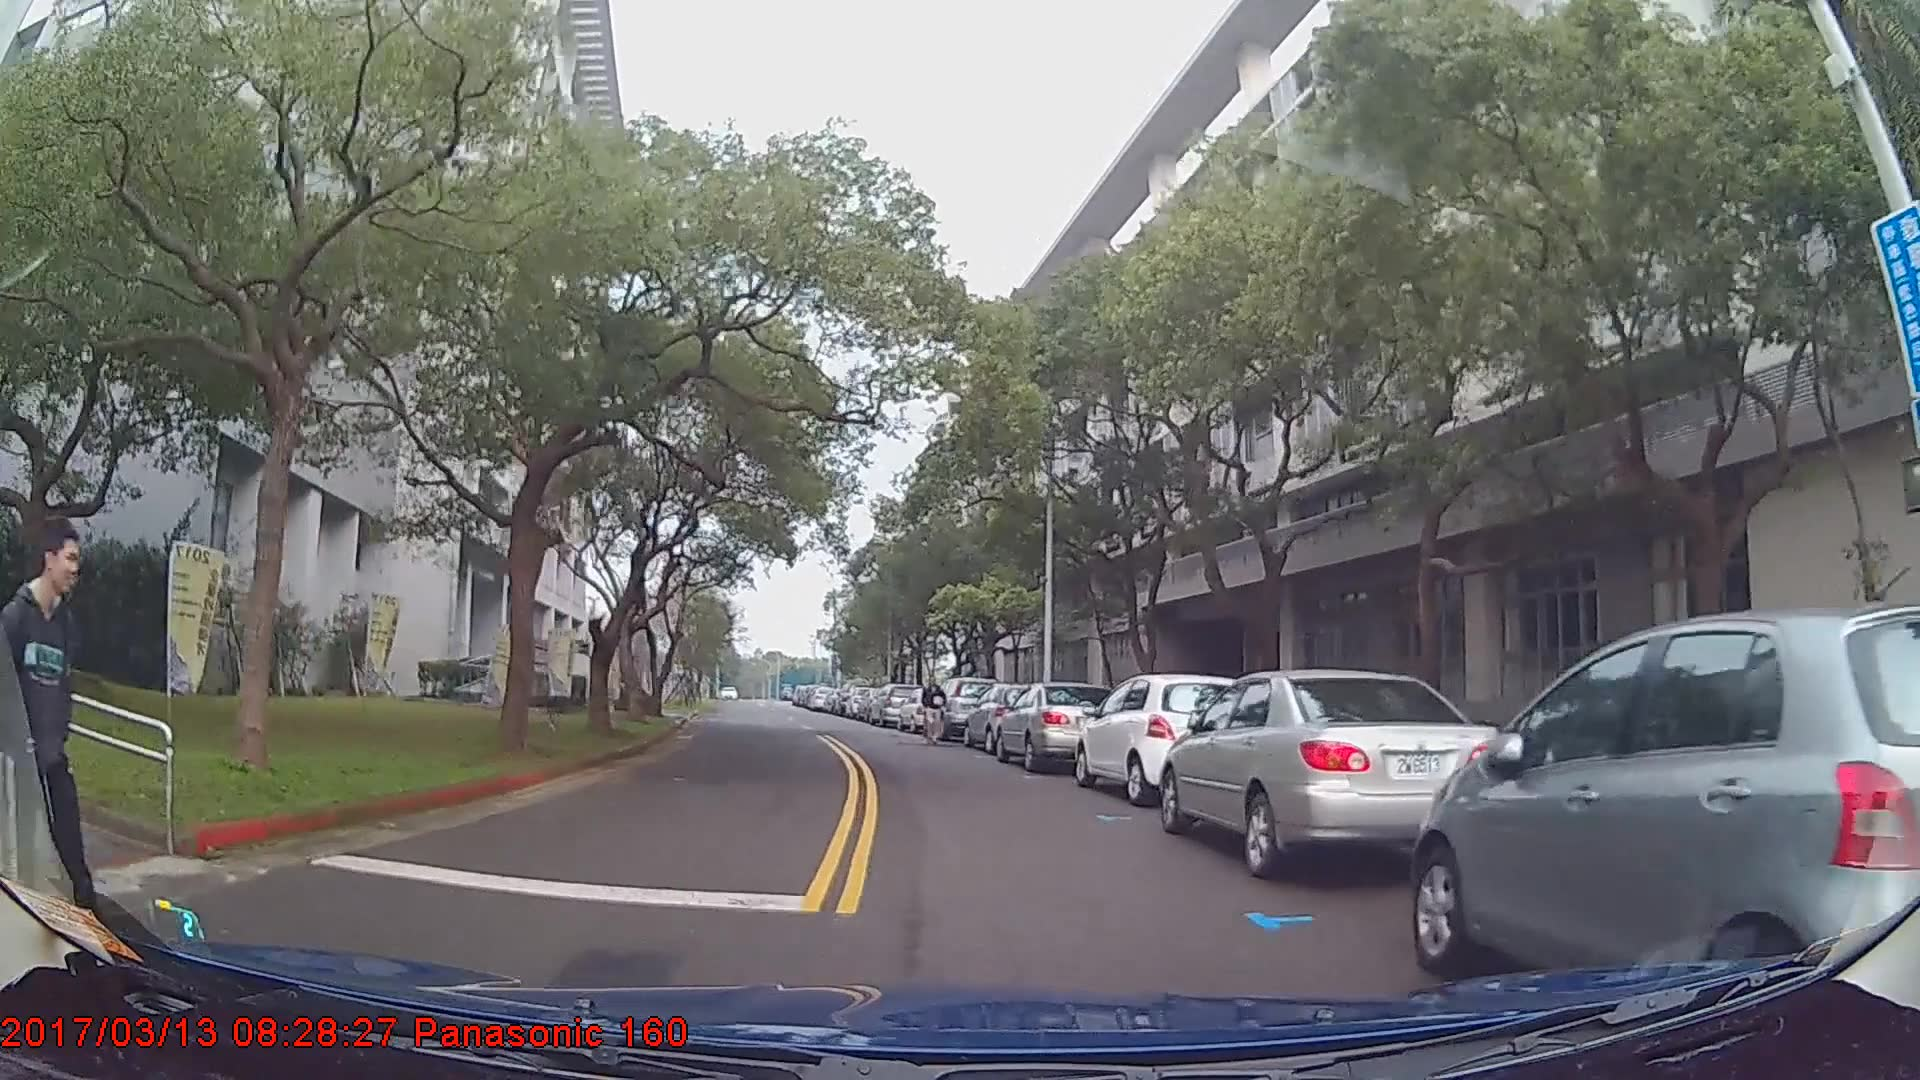pedestrian: (1, 525, 84, 988), (920, 675, 947, 748)
vehicle: (1409, 602, 1920, 1010), (1162, 667, 1511, 883), (1075, 672, 1252, 808), (995, 681, 1114, 773), (962, 680, 1059, 755), (930, 676, 999, 742), (868, 682, 919, 728)
